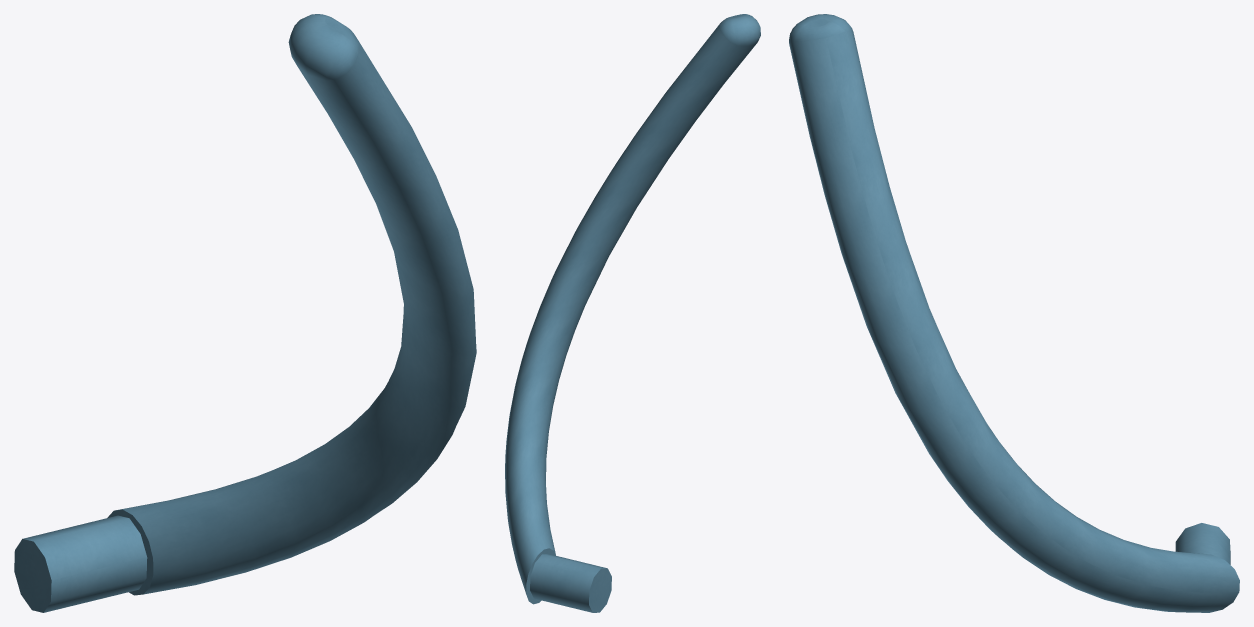
The model's file is brazoIzquierdo.obj.
3 renders of one model, left to right at view 1: azimuth 30°, elevation 25°; view 2: azimuth 150°, elevation 25°; view 3: azimuth 270°, elevation 25°, orthographic. The views are drawn at different scales.
Visible parts, largest first — view 1: polySurface27 polySurface9; view 2: polySurface27 polySurface9; view 3: polySurface27 polySurface9.
Part boxes in pixels (box(x1,y1,x2,y2)): polySurface27 polySurface9: box(14, 14, 476, 612); polySurface27 polySurface9: box(505, 14, 760, 612); polySurface27 polySurface9: box(789, 14, 1239, 612).
Bounding box in the file's own units: 0.3905 × 1.08 × 0.7718.
1 material, 1 textured.
